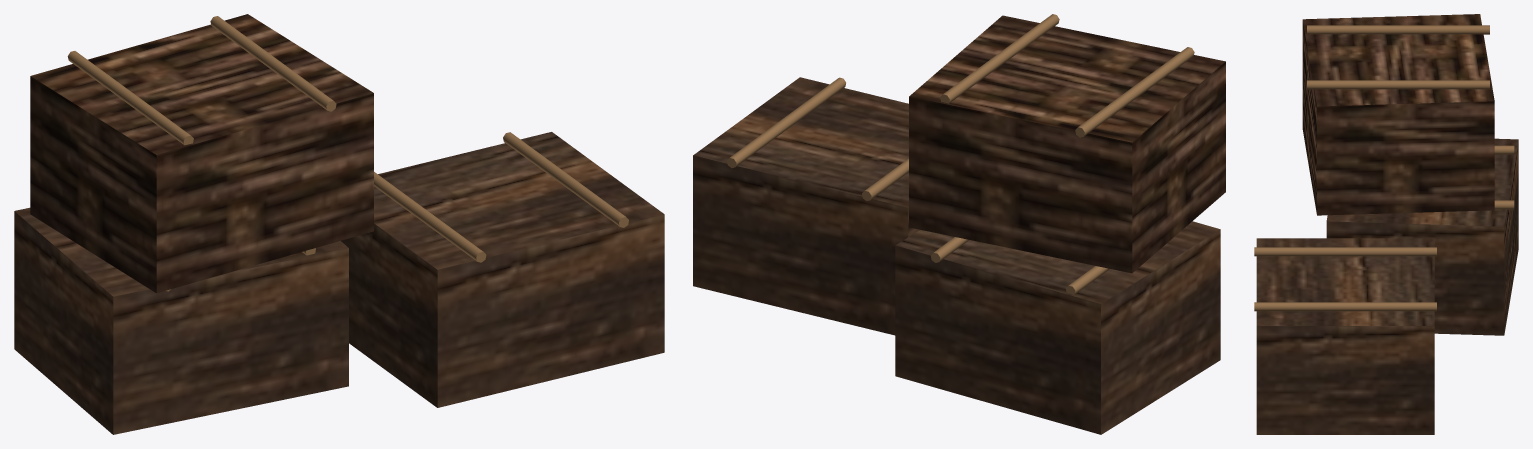
Rendered from bronzeCargo.glb.
3 renders of one model, left to right at view 1: azimuth 30°, elevation 25°; view 2: azimuth 150°, elevation 25°; view 3: azimuth 270°, elevation 25°, orthographic. The views are drawn at different scales.
Parts seen in each view (by area): view 1: part_0, part_2, part_1; view 2: part_0, part_2, part_1; view 3: part_0, part_2, part_1.
Part boxes in pixels (x1=…): part_0: x1=14, y1=132, x2=664, y2=434; part_2: x1=30, y1=14, x2=373, y2=293; part_1: x1=67, y1=16, x2=628, y2=291; part_0: x1=693, y1=77, x2=1220, y2=434; part_2: x1=909, y1=15, x2=1225, y2=273; part_1: x1=727, y1=14, x2=1194, y2=294; part_0: x1=1256, y1=138, x2=1518, y2=434; part_2: x1=1302, y1=14, x2=1494, y2=215; part_1: x1=1254, y1=25, x2=1514, y2=311.
Bounding box in the file's own units: 0.9424 × 0.545 × 0.5496.
Materials: 3 (2 with a texture image).
